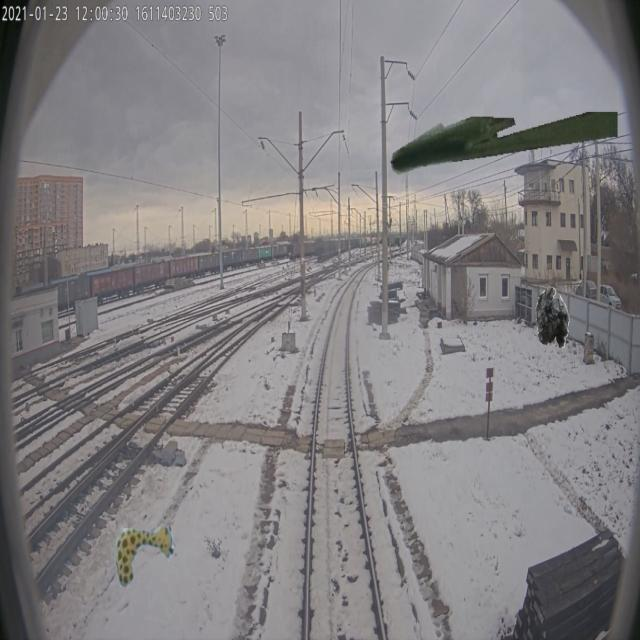floating object: (390, 112, 618, 176), (114, 522, 174, 586)
plastic bag: (535, 285, 570, 349)
